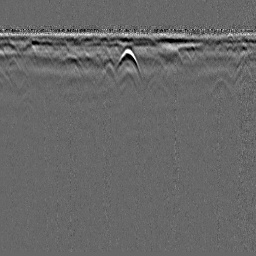cavity: (115, 48, 140, 73)
